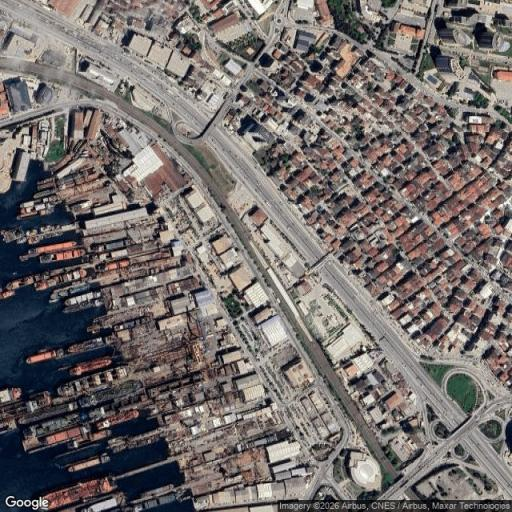ship: (42, 475, 115, 510), (58, 366, 133, 396), (22, 412, 88, 439), (79, 381, 141, 408), (90, 390, 150, 417), (0, 391, 51, 422), (18, 402, 78, 425), (35, 269, 87, 290), (46, 425, 90, 446), (135, 493, 183, 511), (96, 410, 139, 429), (69, 431, 111, 449), (69, 359, 113, 375), (70, 456, 110, 473), (6, 272, 43, 290), (62, 298, 103, 314), (28, 241, 77, 254), (40, 250, 87, 263), (26, 349, 64, 365), (50, 285, 90, 299), (64, 292, 101, 306), (141, 483, 174, 498), (68, 338, 103, 352), (1, 226, 25, 243), (0, 387, 22, 403), (21, 203, 47, 214), (33, 188, 56, 199), (17, 211, 40, 221), (20, 199, 43, 208), (107, 435, 129, 443), (38, 180, 54, 190), (38, 177, 53, 186), (1, 291, 16, 300), (43, 194, 58, 202), (41, 207, 55, 215), (92, 330, 99, 334), (102, 453, 108, 457)
